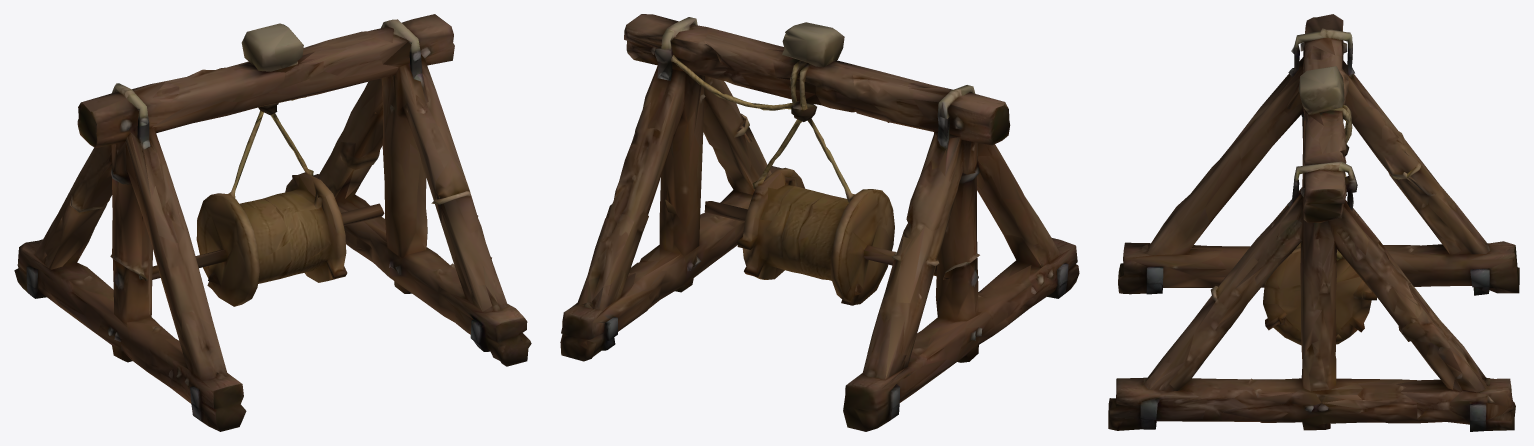
File: ch5-siege-hoist.glb
3 views of the same model, side by side, from view 1: azimuth 30°, elevation 25°; view 2: azimuth 150°, elevation 25°; view 3: azimuth 270°, elevation 25° (orthographic). The views are drawn at different scales.
Parts seen in each view (by area): view 1: tripo_node_b3771e29-29e6-4cec-a4c5-4aba5b1d828b; view 2: tripo_node_b3771e29-29e6-4cec-a4c5-4aba5b1d828b; view 3: tripo_node_b3771e29-29e6-4cec-a4c5-4aba5b1d828b.
Part boxes in pixels (<box>): tripo_node_b3771e29-29e6-4cec-a4c5-4aba5b1d828b: <box>14,14,531,431</box>; tripo_node_b3771e29-29e6-4cec-a4c5-4aba5b1d828b: <box>560,14,1079,431</box>; tripo_node_b3771e29-29e6-4cec-a4c5-4aba5b1d828b: <box>1108,14,1519,431</box>.
Size of the model in its own units: 3.38 by 2.6 by 3.38.
Materials: 1 (1 with a texture image).
